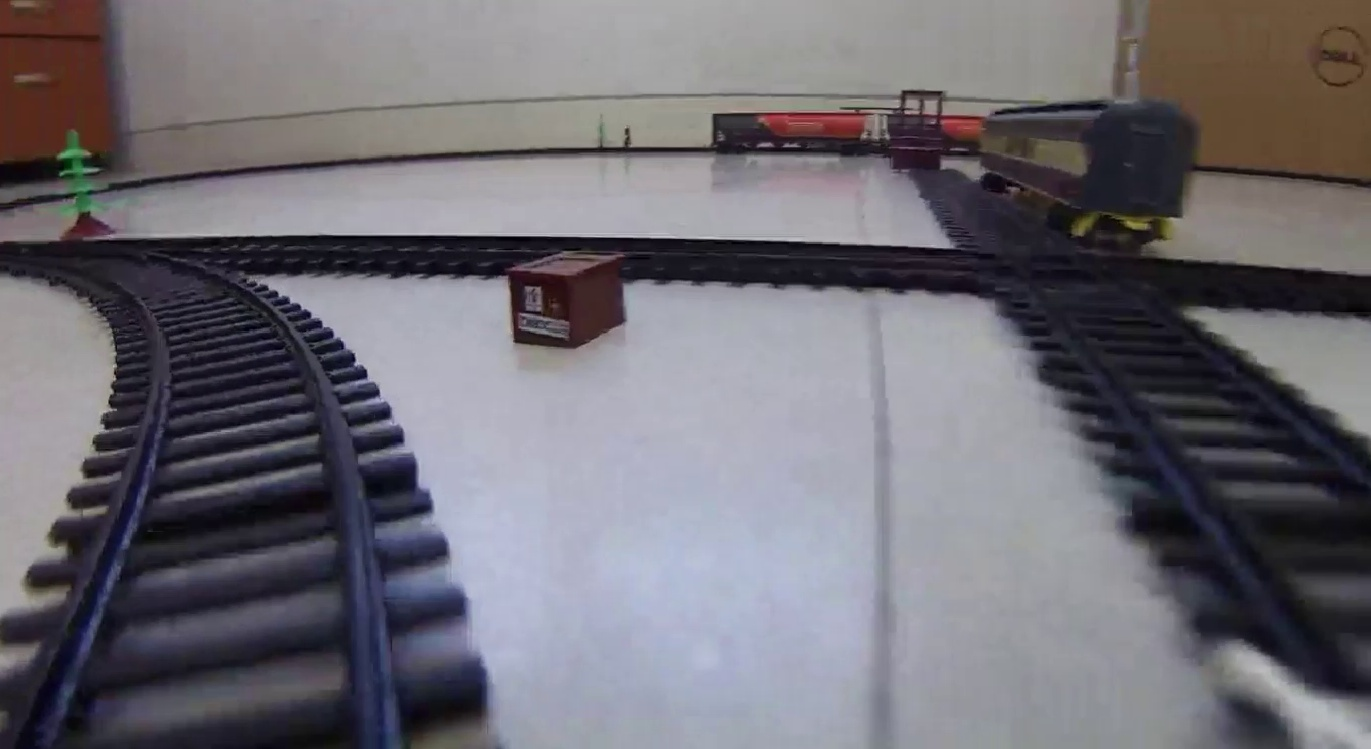box: (514, 251, 627, 350)
